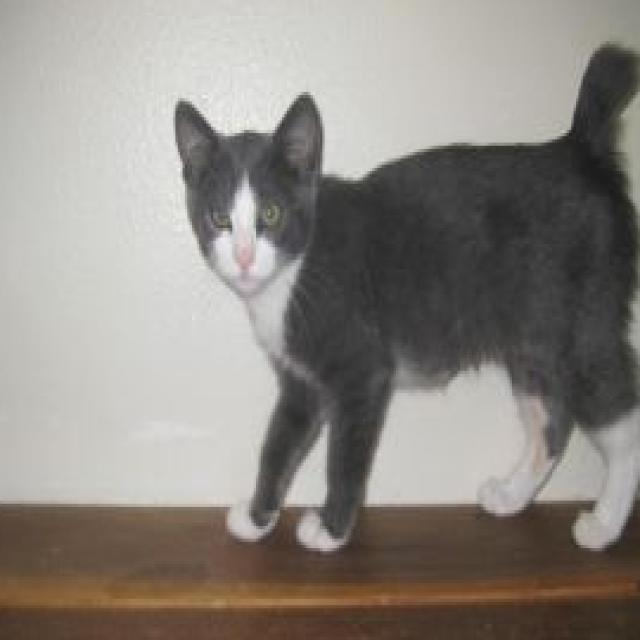American Bobtail: (168, 38, 640, 554)
